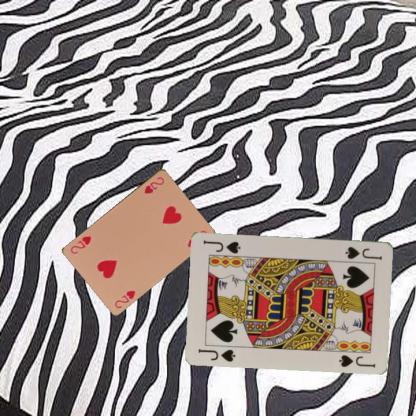2h: (112, 287, 137, 309), (140, 174, 166, 195)
Js: (343, 243, 383, 261), (196, 346, 237, 363)
